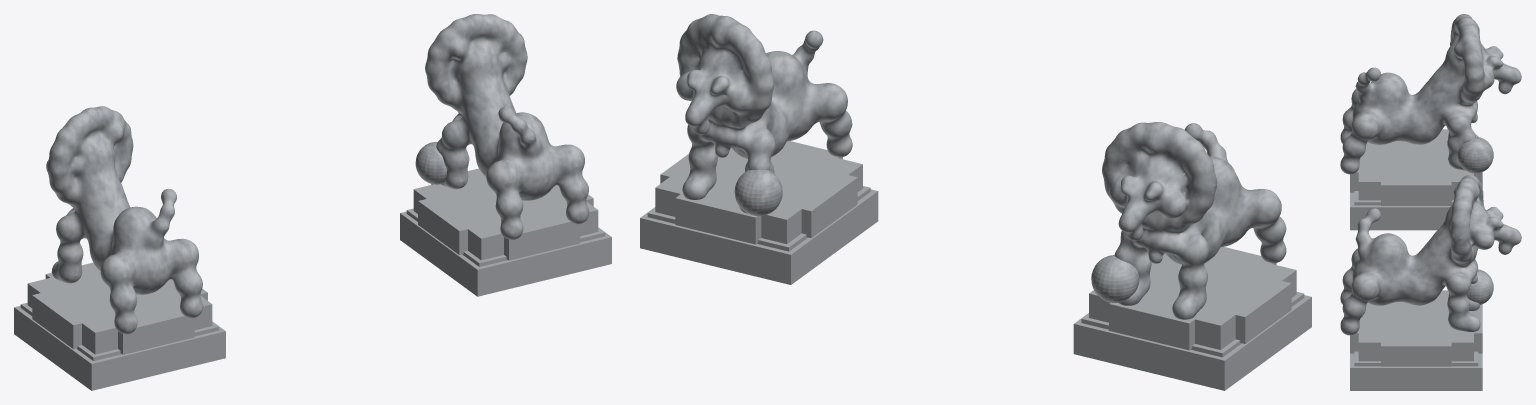
The model's file is shishi.glb.
3 views of the same model, side by side, from view 1: azimuth 30°, elevation 25°; view 2: azimuth 150°, elevation 25°; view 3: azimuth 270°, elevation 25° (orthographic). The views are drawn at different scales.
Visible parts, largest first — view 1: lionMB.002, lionMB.001; view 2: lionMB.001, lionMB.002; view 3: lionMB.002, lionMB.001.
Boxes of the visible parts, left/top/right/bottom form: lionMB.002: left=400, top=14, right=611, bottom=296; lionMB.001: left=14, top=106, right=225, bottom=390; lionMB.001: left=1073, top=122, right=1311, bottom=390; lionMB.002: left=640, top=14, right=878, bottom=284; lionMB.002: left=1340, top=175, right=1521, bottom=390; lionMB.001: left=1340, top=14, right=1521, bottom=230.
Size of the model in its own units: 3.64 by 1.44 by 1.29.
2 materials, 1 textured.
